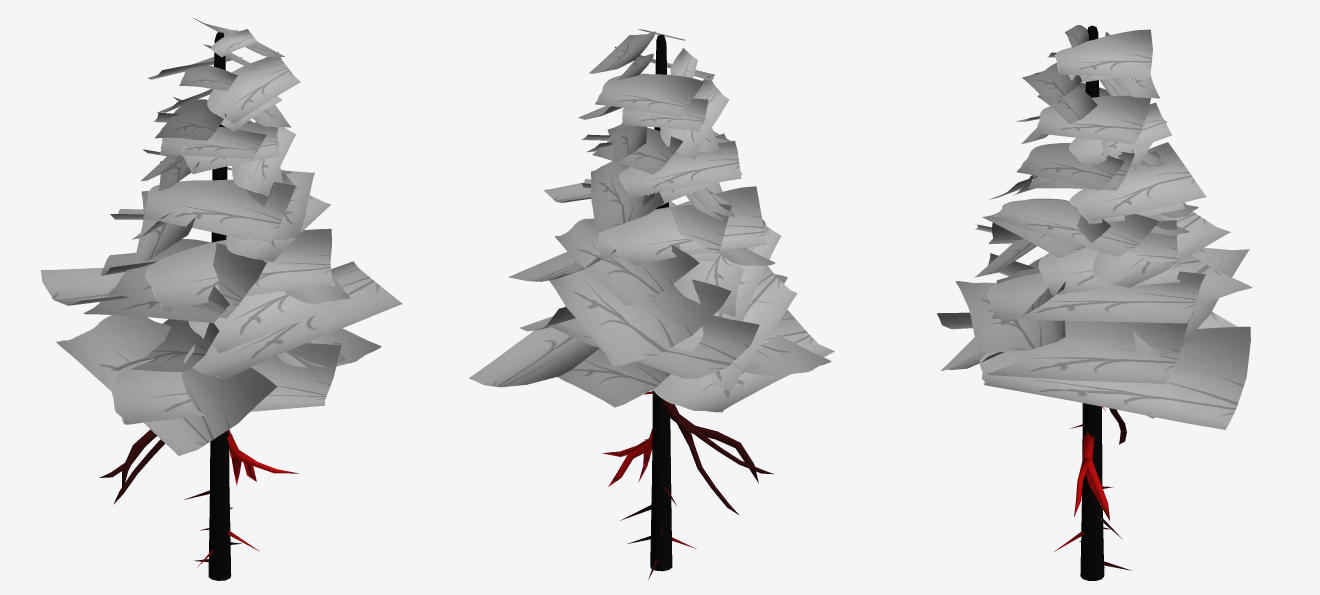
The model's file is M_Pine_5_4.fbx.
The picture shows the model from 3 angles, left to right: view 1: azimuth 30°, elevation 25°; view 2: azimuth 150°, elevation 25°; view 3: azimuth 270°, elevation 25°; orthographic projection. The views are drawn at different scales.
Parts seen in each view (by area): view 1: Mobile_Pine_4; view 2: Mobile_Pine_4; view 3: Mobile_Pine_4.
Boxes of the visible parts, <box> form: Mobile_Pine_4: <box>40,17,402,580</box>; Mobile_Pine_4: <box>469,29,834,579</box>; Mobile_Pine_4: <box>937,25,1252,580</box>.
Bounding box in the file's own units: 1623 × 2444 × 1629.
